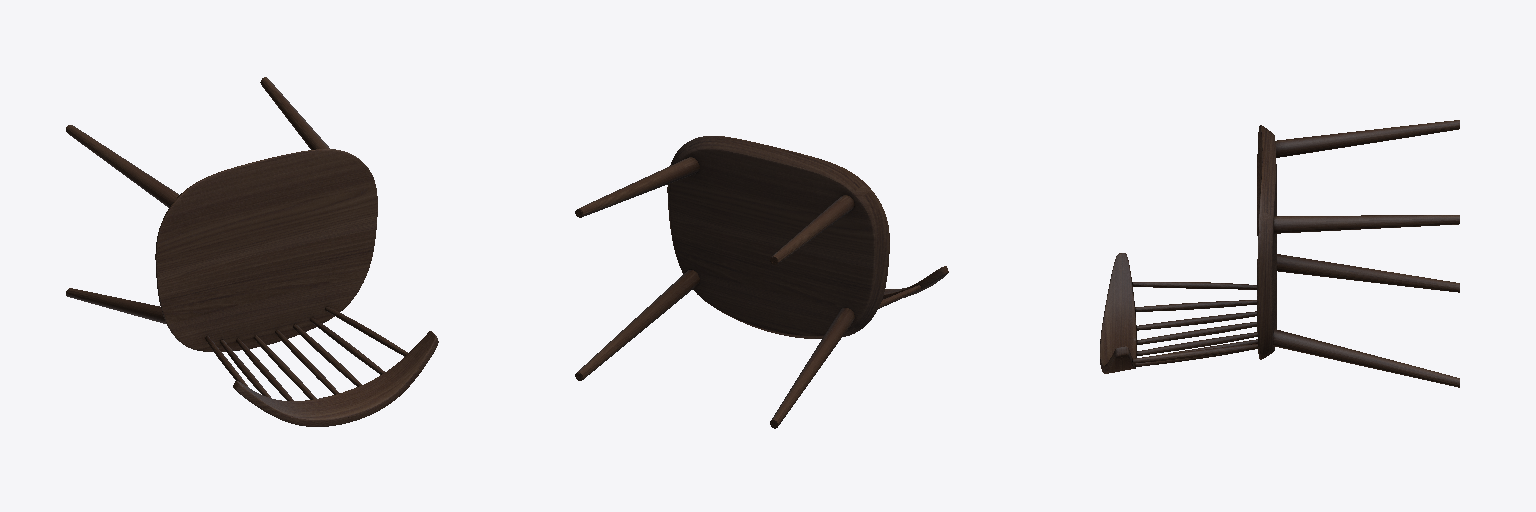
3 renders of one model, left to right at view 1: azimuth 30°, elevation 25°; view 2: azimuth 150°, elevation 25°; view 3: azimuth 270°, elevation 25°, orthographic.
Size of the model in its own units: 0.5651 by 0.4984 by 0.7963.
1 materials, 1 textured.